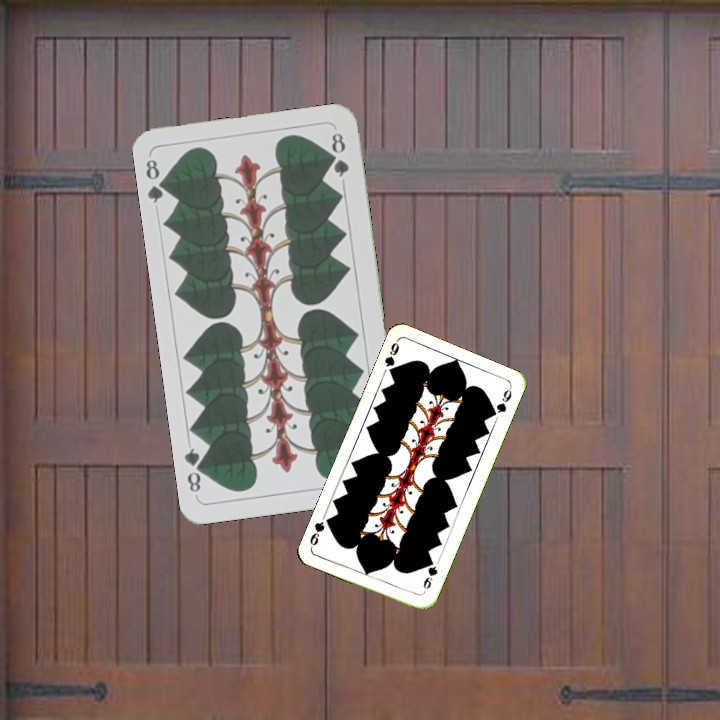G8: (142, 155, 172, 206)
G9: (380, 337, 402, 378), (419, 556, 440, 592)
